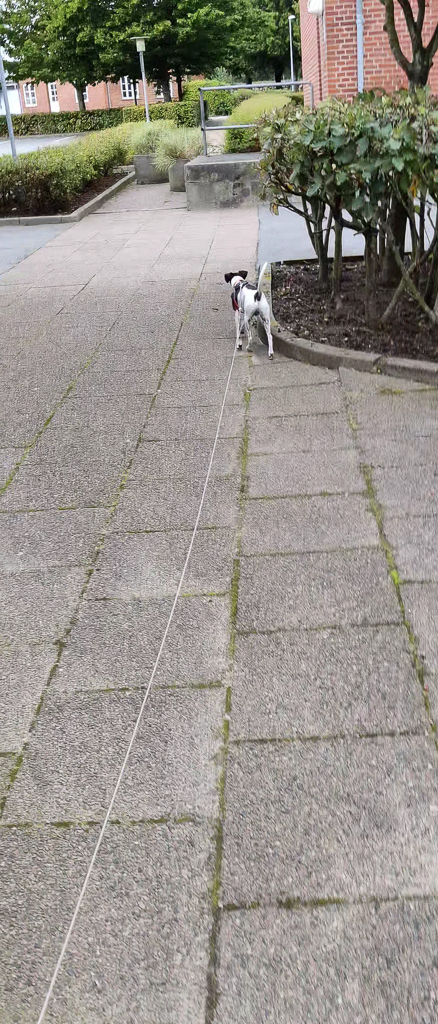Dog: (215, 255, 280, 366)
